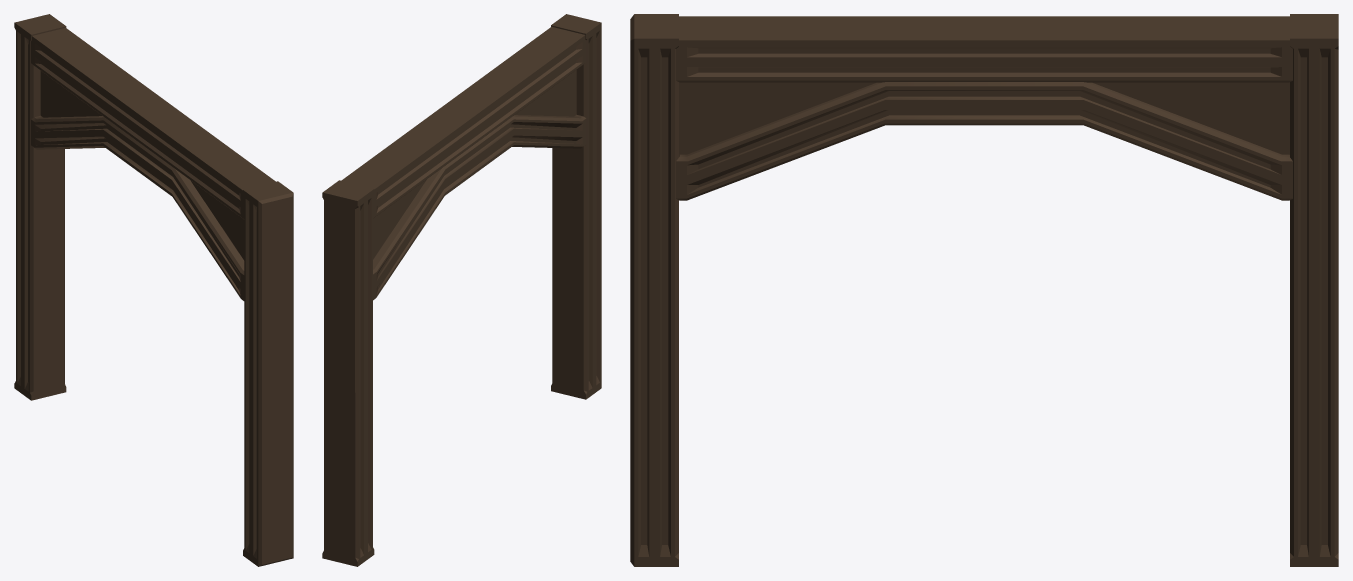
The model's file is Entrada estudio.fbx.
The picture shows the model from 3 angles, left to right: view 1: azimuth 30°, elevation 25°; view 2: azimuth 150°, elevation 25°; view 3: azimuth 270°, elevation 25°; orthographic projection. The views are drawn at different scales.
Parts seen in each view (by area): view 1: pCube249; view 2: pCube249; view 3: pCube249.
Boxes of the visible parts, x1,y1,x2,y2 form: pCube249: (14,14,293,566); pCube249: (322,14,601,566); pCube249: (630,14,1338,566).
Bounding box in the file's own units: 28.22 × 281 × 341.
